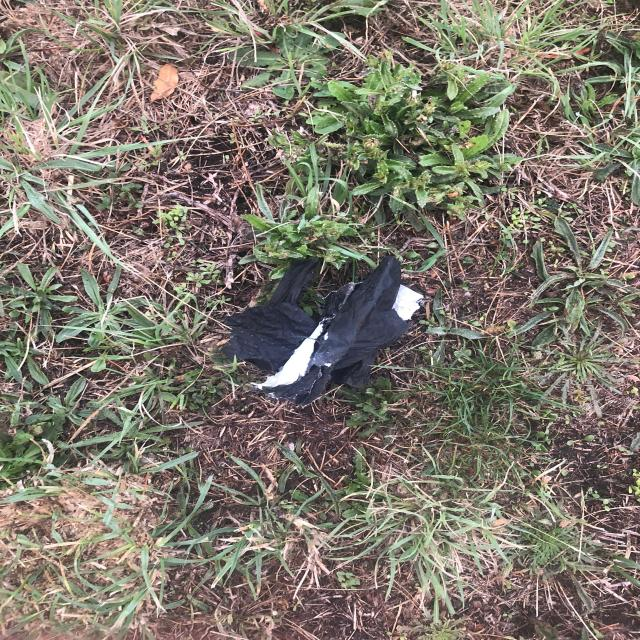litter: (342, 162, 541, 314)
